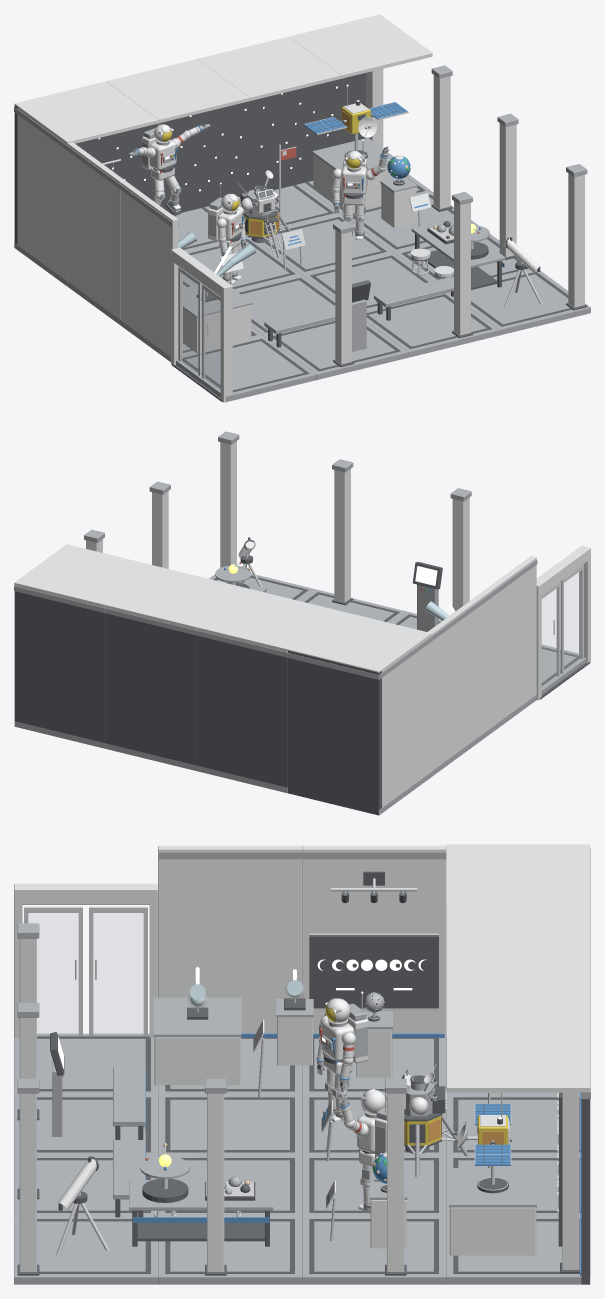
Rendered from solar-system-and-astronauts-moon-landing-corner-0c00b28a__39278.glb.
3 views of the same model, one above another, from view 1: azimuth 30°, elevation 25°; view 2: azimuth 150°, elevation 25°; view 3: azimuth 270°, elevation 25° (orthographic). The views are drawn at different scales.
Visible parts, largest first — view 1: 021-gallery-wall-module/0, 022-gallery-wall-module/0, 036-star-backdrop-panel/0, 037-star-backdrop-panel/0, 020-gallery-wall-module/0, 024-gallery-ceiling-panel/0, 025-gallery-ceiling-panel/0, 026-gallery-ceiling-panel/0, 027-gallery-ceiling-panel/0, 003-gallery-floor-tile/0, 015-gallery-floor-tile/0, 011-gallery-floor-tile/0 (+47 smaller); view 2: 016-gallery-wall-module-dark/0, 018-gallery-wall-module-dark/0, 017-gallery-wall-module-dark/0, 019-gallery-wall-module-dark/0, 022-gallery-wall-module/0, 021-gallery-wall-module/0, 020-gallery-wall-module/0, 025-gallery-ceiling-panel/0, 027-gallery-ceiling-panel/0, 026-gallery-ceiling-panel/0, 024-gallery-ceiling-panel/0, 023-gallery-door-pair/0 (+19 smaller); view 3: 022-gallery-wall-module/0, 021-gallery-wall-module/0, 027-gallery-ceiling-panel/0, 024-gallery-ceiling-panel/0, 025-gallery-ceiling-panel/0, 026-gallery-ceiling-panel/0, 058-moon-phases-chart-panel/0, 013-gallery-floor-tile/0, 015-gallery-floor-tile/0, 006-gallery-floor-tile/0, 023-gallery-door-pair/door-right/glass, 014-gallery-floor-tile/0 (+65 smaller).
Part boxes in pixels (x1,y1,x2,y2): 021-gallery-wall-module/0: (67,142,124,319); 022-gallery-wall-module/0: (120,180,177,356); 036-star-backdrop-panel/0: (163,100,254,214); 037-star-backdrop-panel/0: (254,78,345,190); 020-gallery-wall-module/0: (17,107,67,280); 024-gallery-ceiling-panel/0: (14,81,158,144); 025-gallery-ceiling-panel/0: (106,59,249,123); 026-gallery-ceiling-panel/0: (198,36,341,100); 027-gallery-ceiling-panel/0: (289,14,432,78); 003-gallery-floor-tile/0: (176,336,316,402); 015-gallery-floor-tile/0: (449,269,590,335); 011-gallery-floor-tile/0: (366,292,499,357); 016-gallery-wall-module-dark/0: (288,650,381,815); 018-gallery-wall-module-dark/0: (105,613,196,765); 017-gallery-wall-module-dark/0: (196,635,287,787); 019-gallery-wall-module-dark/0: (14,591,105,743); 022-gallery-wall-module/0: (479,556,536,732); 021-gallery-wall-module/0: (427,594,483,771); 020-gallery-wall-module/0: (382,635,431,807); 025-gallery-ceiling-panel/0: (196,588,339,652); 027-gallery-ceiling-panel/0: (14,544,157,608); 026-gallery-ceiling-panel/0: (105,566,248,630); 024-gallery-ceiling-panel/0: (288,611,431,672); 023-gallery-door-pair/0: (536,545,590,700); 022-gallery-wall-module/0: (158,845,301,1033); 021-gallery-wall-module/0: (302,845,446,1037); 027-gallery-ceiling-panel/0: (446,1027,590,1092); 024-gallery-ceiling-panel/0: (446,844,590,904); 025-gallery-ceiling-panel/0: (446,905,590,965); 026-gallery-ceiling-panel/0: (446,966,590,1026); 058-moon-phases-chart-panel/0: (309,935,438,1008); 013-gallery-floor-tile/0: (302,1216,446,1284); 015-gallery-floor-tile/0: (14,1216,157,1284); 006-gallery-floor-tile/0: (158,1094,301,1155); 023-gallery-door-pair/door-right/glass: (93,913,143,1035); 014-gallery-floor-tile/0: (158,1216,301,1284).
Size of the model in its own units: 8.05 by 3.02 by 8.01.
